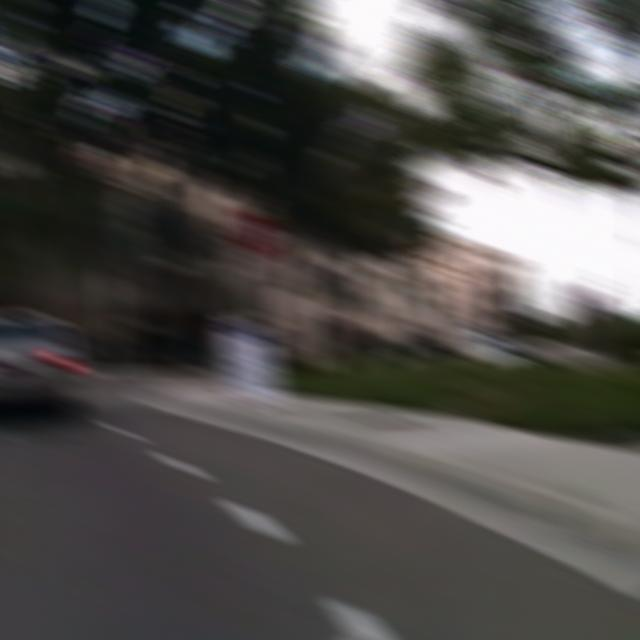stop_sign: (229, 203, 281, 261)
